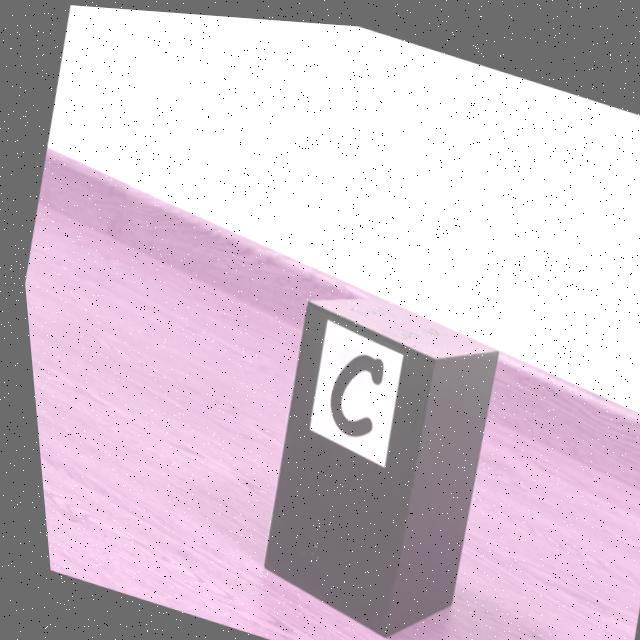C: (322, 349, 377, 432)
